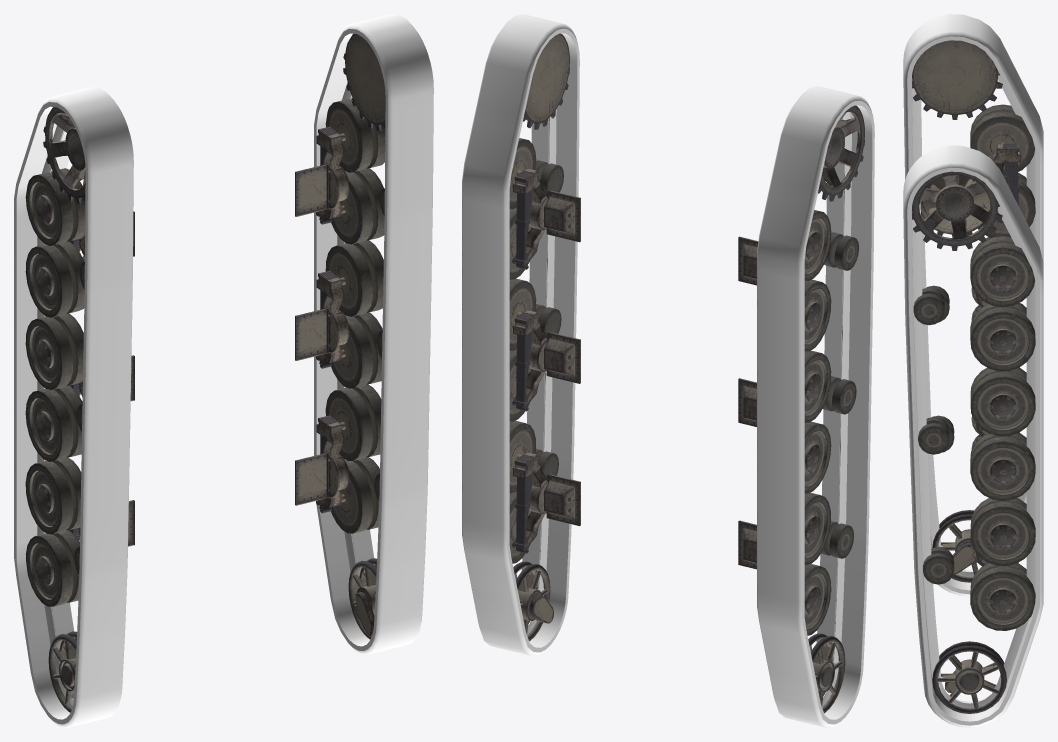
The model's file is Chassis.glb.
3 renders of one model, left to right at view 1: azimuth 30°, elevation 25°; view 2: azimuth 150°, elevation 25°; view 3: azimuth 270°, elevation 25°, orthographic. The views are drawn at different scales.
Visible parts, largest first — view 1: set_1_group_0, set_0_group_0, set_3_group_0, set_2_group_0; view 2: set_1_group_0, set_0_group_0, set_3_group_0, set_2_group_0; view 3: set_3_group_0, set_0_group_0, set_2_group_0, set_1_group_0.
Part boxes in pixels (x1=…): set_1_group_0: x1=14, y1=87, x2=133, y2=727; set_0_group_0: x1=314, y1=14, x2=433, y2=654; set_3_group_0: x1=295, y1=34, x2=385, y2=639; set_2_group_0: x1=25, y1=107, x2=134, y2=712; set_1_group_0: x1=757, y1=86, x2=874, y2=727; set_0_group_0: x1=462, y1=14, x2=579, y2=655; set_3_group_0: x1=509, y1=33, x2=580, y2=641; set_2_group_0: x1=738, y1=105, x2=864, y2=713; set_3_group_0: x1=912, y1=171, x2=1035, y2=713; set_0_group_0: x1=903, y1=145, x2=1043, y2=727; set_2_group_0: x1=912, y1=40, x2=1035, y2=582; set_1_group_0: x1=903, y1=14, x2=1043, y2=596.
Bounding box in the file's own units: 2.85 × 4.95 × 1.11.
4 materials, 2 textured.
